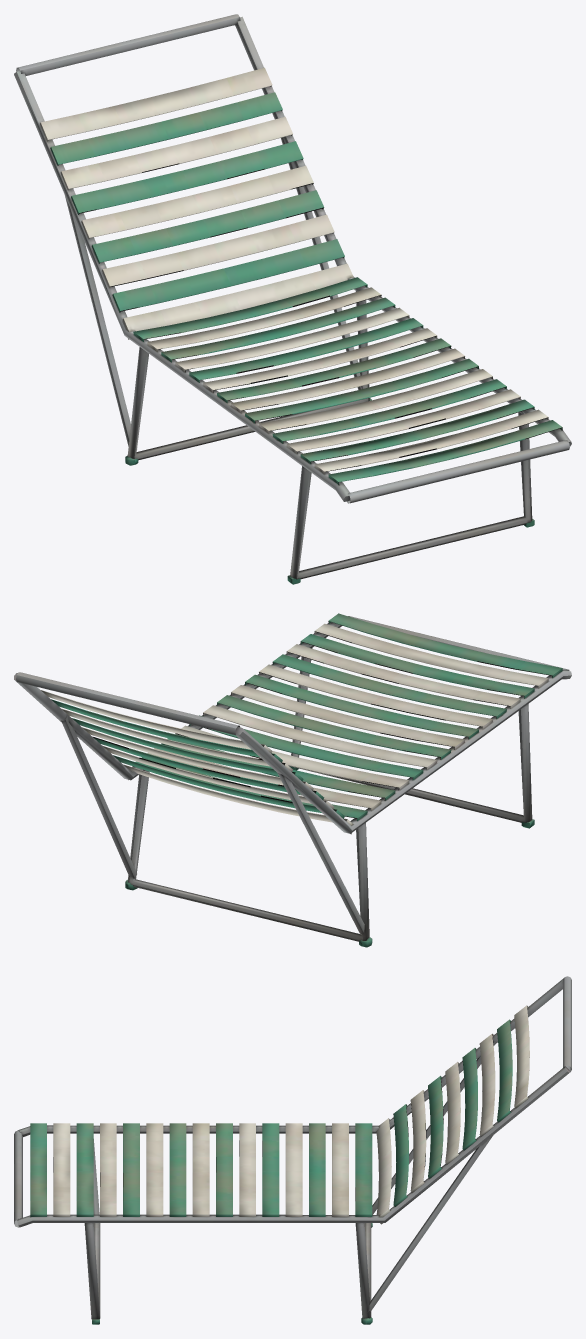
The model's file is chaise_lounge-low.glb.
3 views of the same model, one above another, from view 1: azimuth 30°, elevation 25°; view 2: azimuth 150°, elevation 25°; view 3: azimuth 270°, elevation 25° (orthographic). The views are drawn at different scales.
Visible parts, largest first — view 1: chaise_lounge; view 2: chaise_lounge; view 3: chaise_lounge.
Boxes of the visible parts, box(x1,y1,x2,y2) form: chaise_lounge: box(14, 14, 571, 584); chaise_lounge: box(14, 613, 571, 947); chaise_lounge: box(14, 976, 571, 1324).
Bounding box in the file's own units: 0.6719 × 0.8001 × 1.59.
2 materials, 2 textured.
